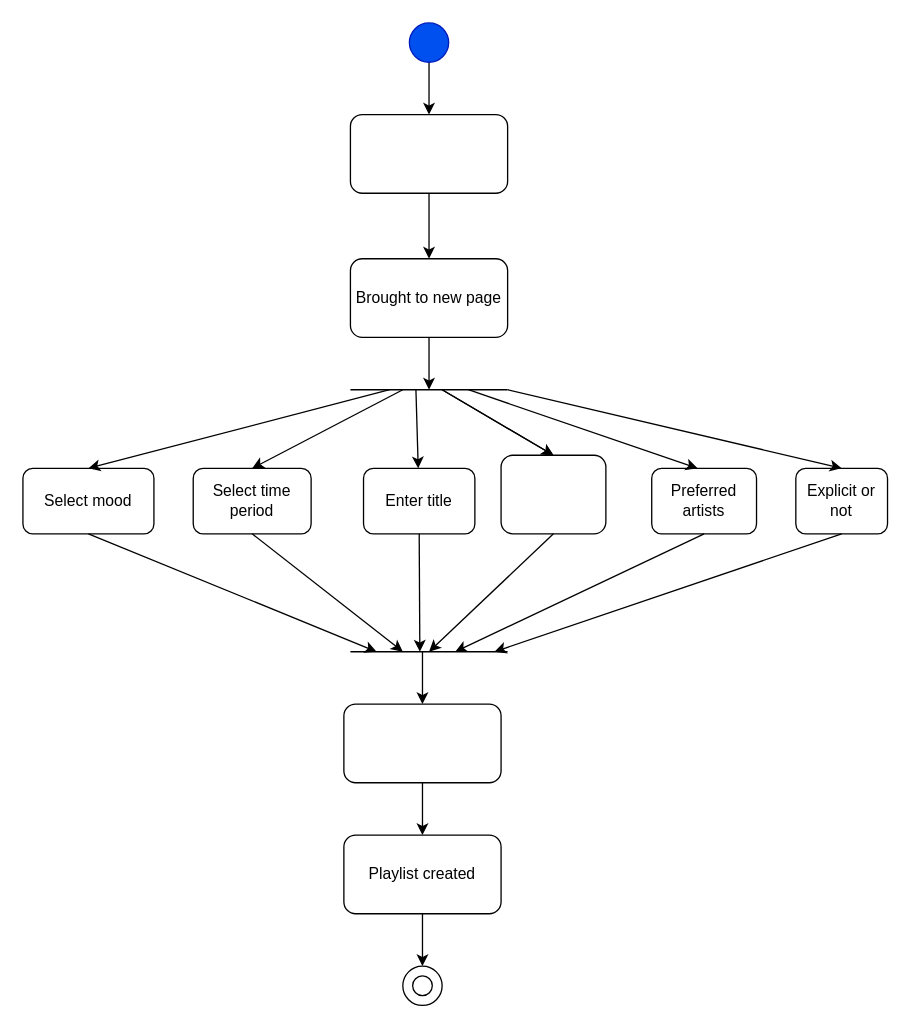
This 910x1028 diagram has some shape labels left out. Each missing label, with the centre of its shape:
Select preferred genre(s) (with sliding scale): (553,494)
User clicks "create playlist button": (428,153)
User clicks "done": (422,743)
